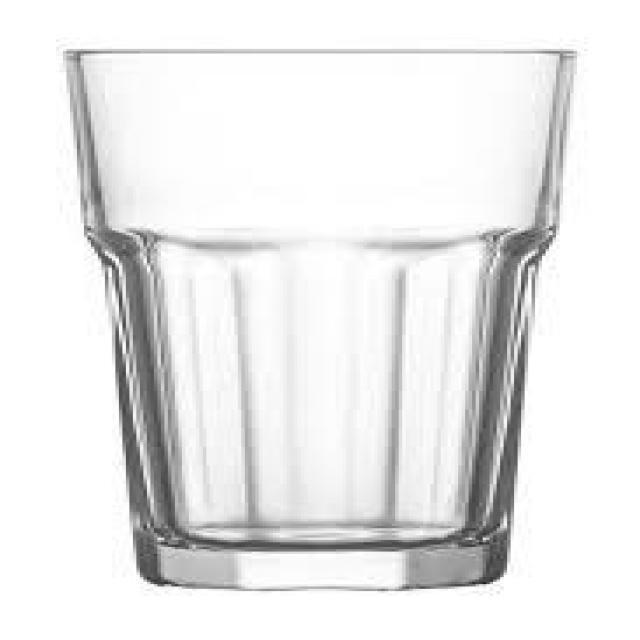glass: (39, 36, 592, 597)
